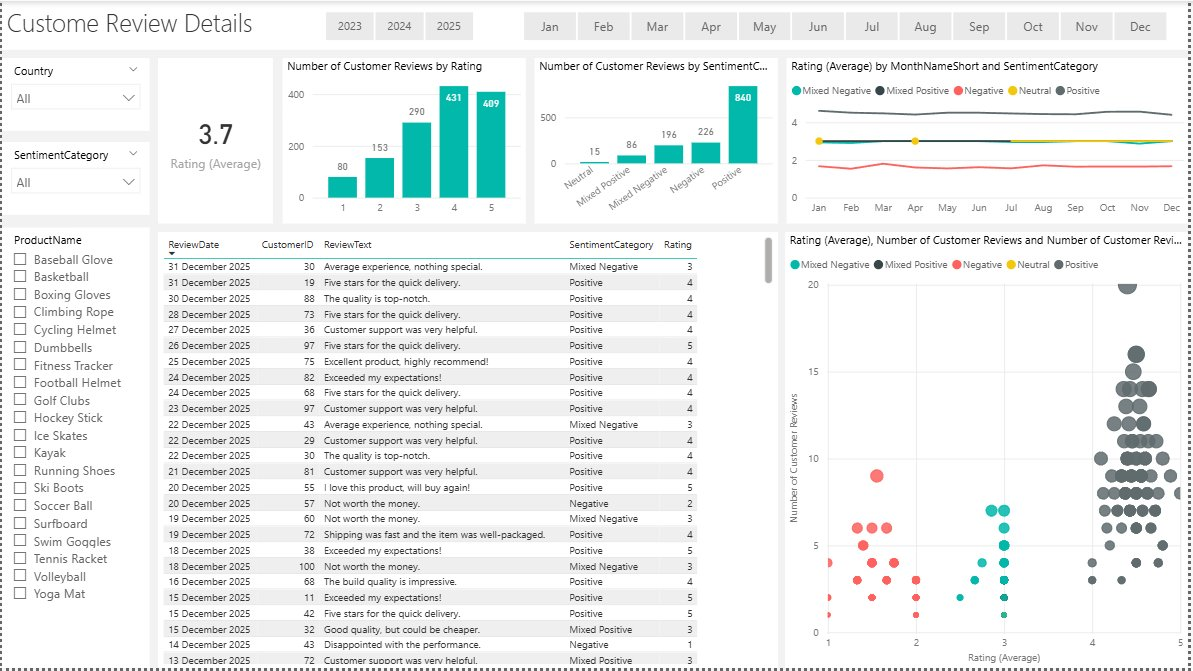

This screenshot's page, from the dashboard's own definition file:
{"tool":"powerbi","page":{"name":"Customer Review Details","canvas":[1280,720],"ordinal":3},"visuals":[{"type":"textbox","box":[0,0,1280,52.6],"z":0},{"type":"slicer","fields":{"Values":["dim_products.ProductName"]},"box":[0,244.2,159.3,475.3],"z":1000},{"type":"card","fields":{"Values":["_Calculations.Rating (Average)"]},"box":[168.5,61.9,123.8,178.5],"z":2000},{"type":"slicer","fields":{"Values":["Calendar.MonthNameShort"]},"box":[536.8,4.1,743.2,44.4],"z":3000},{"type":"lineChart","fields":{"Category":["Calendar.MonthNameShort"],"Y":["_Calculations.Rating (Average)"],"Series":["fact_customer_reviews_with_sentiment.SentimentCategory"]},"box":[846.2,62,434.1,178.4],"z":4000},{"type":"slicer","fields":{"Values":["Calendar.Year"]},"box":[324.1,4.1,208.5,44.4],"z":5000},{"type":"tableEx","fields":{"Values":["fact_customer_reviews_with_sentiment.ReviewDate","fact_customer_reviews_with_sentiment.CustomerID","fact_customer_reviews_with_sentiment.ReviewText","fact_customer_reviews_with_sentiment.SentimentCategory","fact_customer_reviews_with_sentiment.Rating"]},"box":[168.5,249.5,668.4,470.8],"z":6000},{"type":"columnChart","fields":{"Category":["fact_customer_reviews_with_sentiment.Rating"],"Y":["_Calculations.Number of Customer Reviews"]},"box":[302.4,62,262.4,178.4],"z":7000},{"type":"columnChart","fields":{"Category":["fact_customer_reviews_with_sentiment.SentimentCategory"],"Y":["_Calculations.Number of Customer Reviews"]},"box":[574.3,62,262.4,178.4],"z":8000},{"type":"slicer","fields":{"Values":["dim_customers.Country"]},"box":[0,61.4,159.3,78.3],"z":9000},{"type":"slicer","fields":{"Values":["fact_customer_reviews_with_sentiment.SentimentCategory"]},"box":[0,152.8,159.3,78.3],"z":10000},{"type":"scatterChart","fields":{"Category":["dim_customers.CustomerID"],"Series":["fact_customer_reviews_with_sentiment.SentimentCategory"],"X":["_Calculations.Rating (Average)"],"Y":["_Calculations.Number of Customer Reviews"],"Size":["_Calculations.Number of Customer Reviews"]},"box":[846,249.5,434.4,470.8],"z":11000}]}

Visuals, with their boxes in screenshot pixels (x1, y1, x2, y2), scaled from the page's 1280x720 canvas onto the 1193x671 screenshot:
textbox: [x1=0, y1=0, x2=1192, y2=49]
slicer - dim_products.ProductName: [x1=0, y1=228, x2=148, y2=670]
card - _Calculations.Rating (Average): [x1=157, y1=58, x2=272, y2=224]
slicer - Calendar.MonthNameShort: [x1=500, y1=4, x2=1192, y2=45]
lineChart - Calendar.MonthNameShort x _Calculations.Rating (Average): [x1=789, y1=58, x2=1192, y2=224]
slicer - Calendar.Year: [x1=302, y1=4, x2=496, y2=45]
tableEx - fact_customer_reviews_with_sentiment.ReviewDate x fact_customer_reviews_with_sentiment.CustomerID: [x1=157, y1=233, x2=780, y2=670]
columnChart - fact_customer_reviews_with_sentiment.Rating x _Calculations.Number of Customer Reviews: [x1=282, y1=58, x2=526, y2=224]
columnChart - fact_customer_reviews_with_sentiment.SentimentCategory x _Calculations.Number of Customer Reviews: [x1=535, y1=58, x2=780, y2=224]
slicer - dim_customers.Country: [x1=0, y1=57, x2=148, y2=130]
slicer - fact_customer_reviews_with_sentiment.SentimentCategory: [x1=0, y1=142, x2=148, y2=215]
scatterChart - dim_customers.CustomerID x fact_customer_reviews_with_sentiment.SentimentCategory: [x1=788, y1=233, x2=1192, y2=670]
